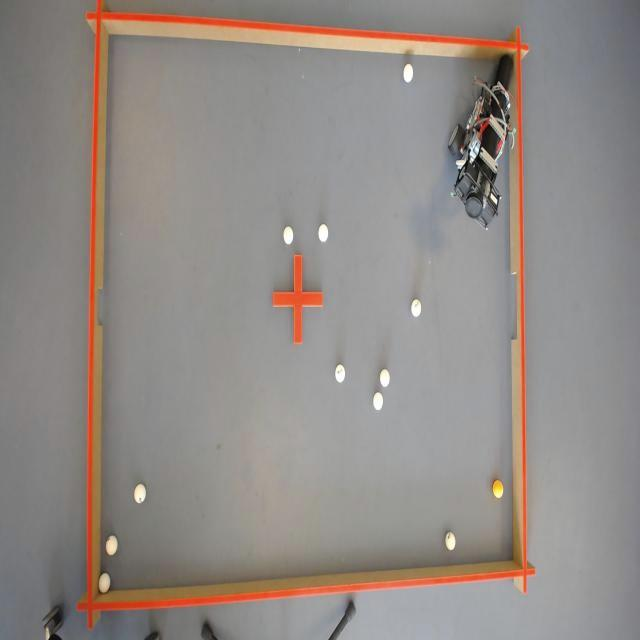orange-golf-balls: (493, 480, 504, 499)
robot: (449, 53, 516, 228)
white-golf-balls: (98, 573, 110, 594), (105, 535, 117, 556), (133, 484, 145, 503), (404, 62, 414, 81), (380, 368, 390, 387), (446, 532, 456, 551), (283, 225, 293, 243), (335, 364, 345, 382), (412, 298, 422, 316), (319, 223, 328, 241), (374, 392, 383, 410)
